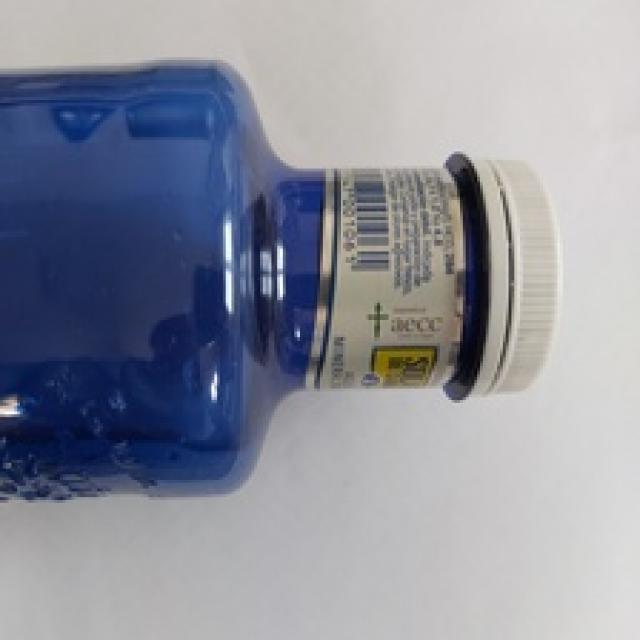Plastic: (0, 55, 566, 500)
